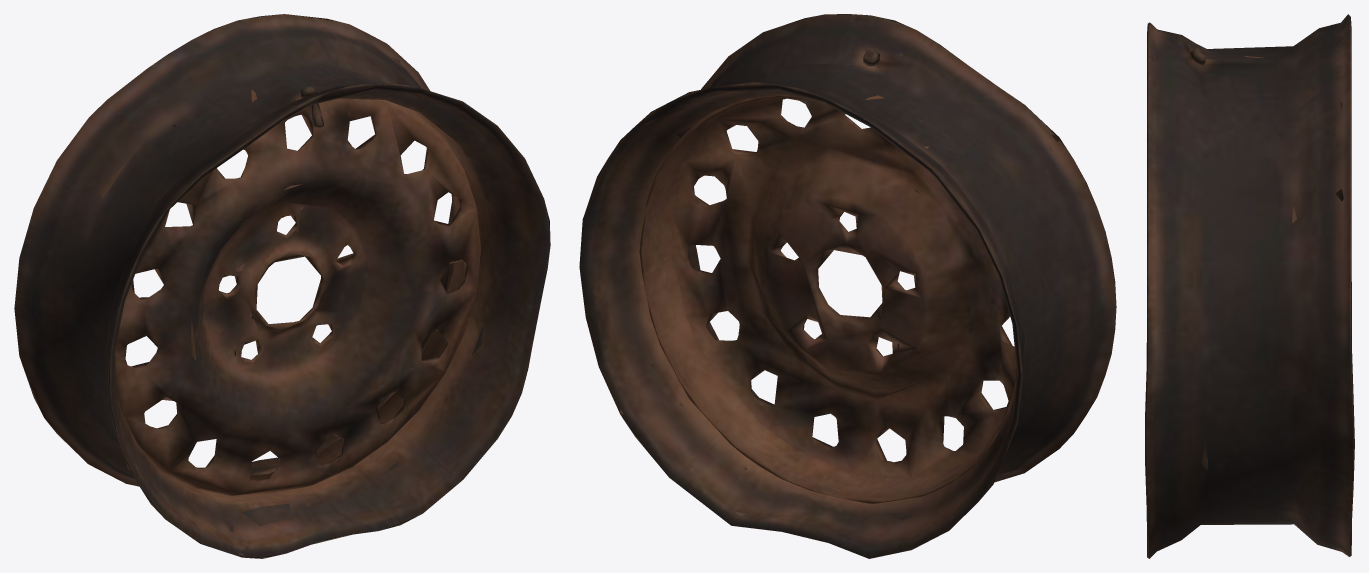
The model's file is rusted_wheel_rim_01.glb.
3 renders of one model, left to right at view 1: azimuth 30°, elevation 25°; view 2: azimuth 150°, elevation 25°; view 3: azimuth 270°, elevation 25°, orthographic. The views are drawn at different scales.
Parts seen in each view (by area): view 1: rusted_wheel_rim_01; view 2: rusted_wheel_rim_01; view 3: rusted_wheel_rim_01.
Part boxes in pixels (bbox=[...]): rusted_wheel_rim_01: bbox=[14, 14, 550, 558]; rusted_wheel_rim_01: bbox=[579, 14, 1116, 558]; rusted_wheel_rim_01: bbox=[1145, 14, 1354, 558].
Size of the model in its own units: 0.4016 by 0.3938 by 0.1539.
Materials: 1 (1 with a texture image).
